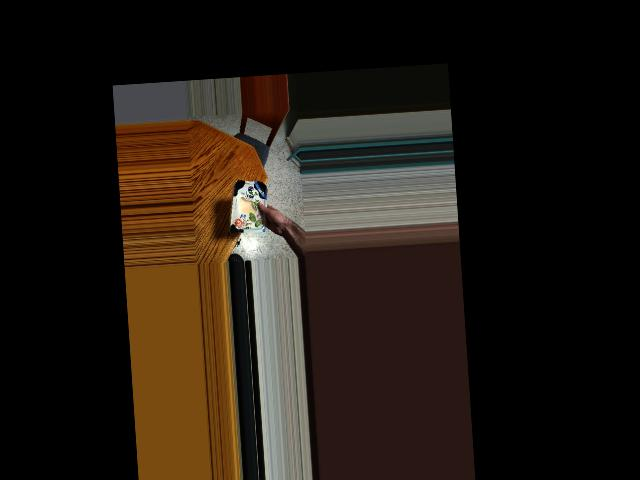cheese: (226, 179, 276, 234)
